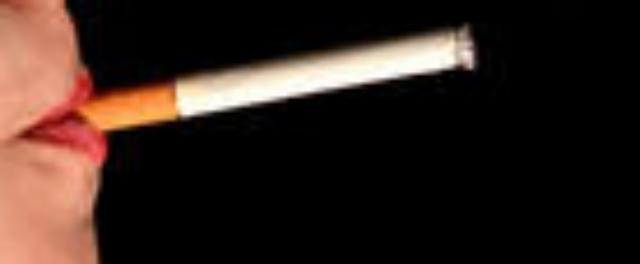Cigarette: (61, 24, 476, 136)
